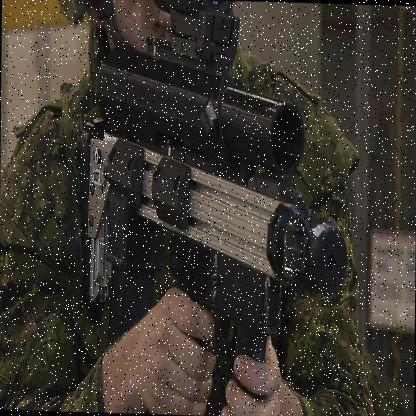rifle: (72, 47, 350, 338)
